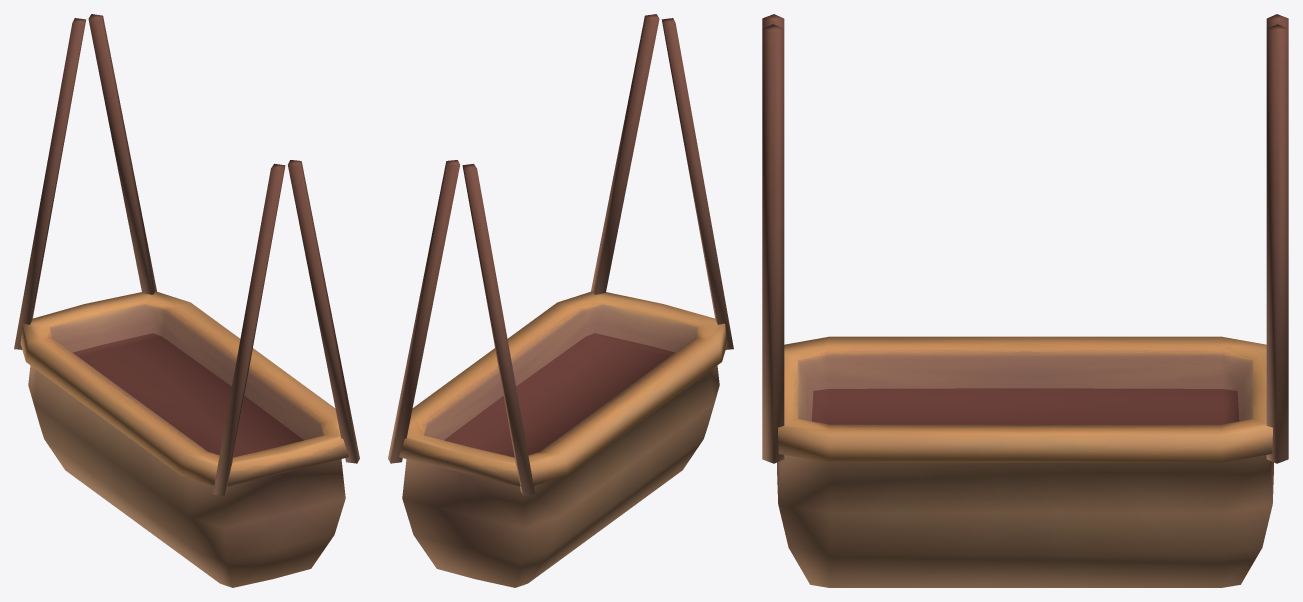
Rendered from hanging_pot_001.fbx.
The picture shows the model from 3 angles, left to right: view 1: azimuth 30°, elevation 25°; view 2: azimuth 150°, elevation 25°; view 3: azimuth 270°, elevation 25°; orthographic projection. The views are drawn at different scales.
Parts seen in each view (by area): view 1: hanging_pot.001; view 2: hanging_pot.001; view 3: hanging_pot.001.
Part boxes in pixels (bbox=[...]): hanging_pot.001: bbox=[14, 14, 359, 587]; hanging_pot.001: bbox=[388, 14, 733, 587]; hanging_pot.001: bbox=[762, 14, 1288, 587].
Bounding box in the file's own units: 38.76 × 93.77 × 83.26.
